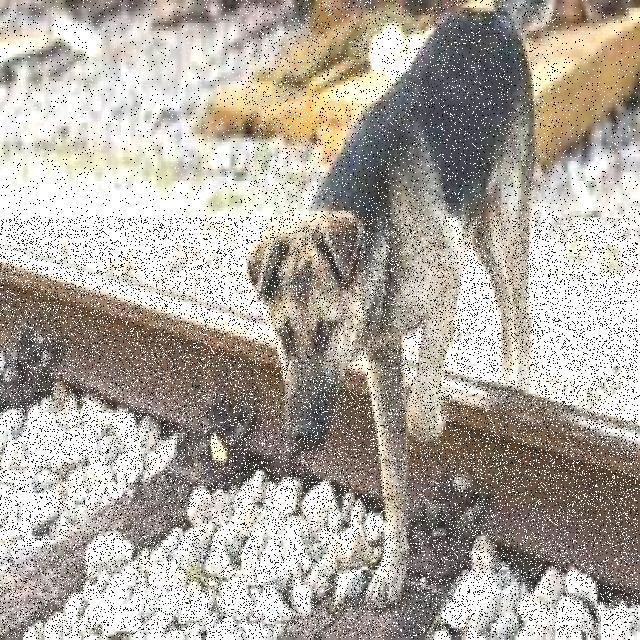danger: (244, 0, 558, 622)
rail: (0, 218, 638, 638)
